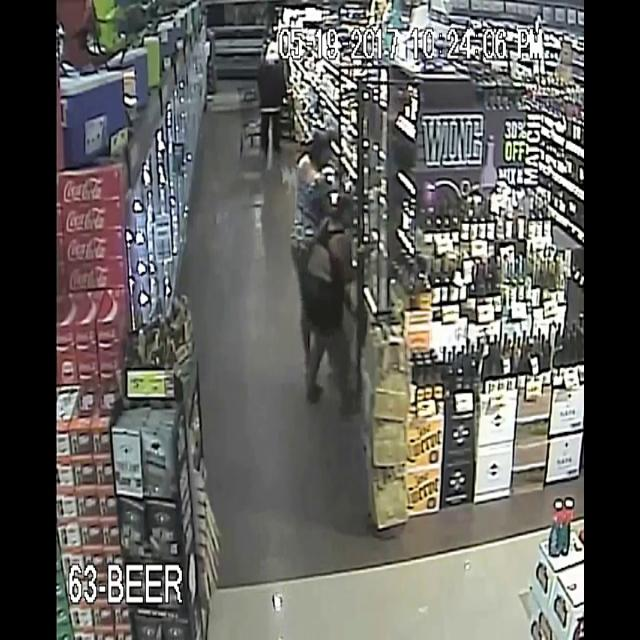normal: (303, 197, 407, 413), (250, 37, 289, 148)
shoplifting: (297, 117, 336, 194)
